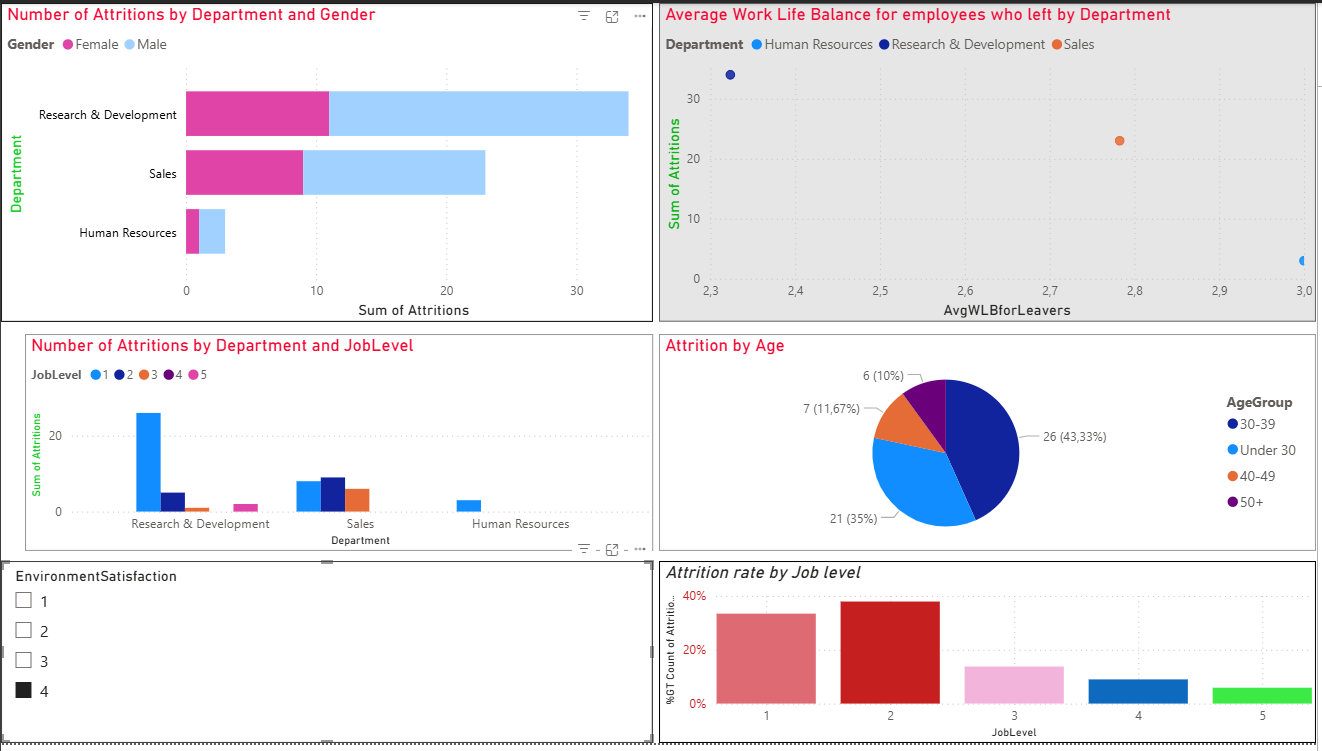

This screenshot's page, from the dashboard's own definition file:
{"tool":"powerbi","page":{"name":"Page 1","canvas":[1280,720],"ordinal":0},"visuals":[{"type":"clusteredColumnChart","title":"Number of Attritions by Department and JobLevel","fields":{"Category":["The View SQL to PowerBi.Department"],"Y":["Sum(The View SQL to PowerBi.Attritions)"],"Series":["The View SQL to PowerBi.JobLevel"]},"box":[23.3,321.9,610.8,211.1],"z":0},{"type":"barChart","title":"Number of Attritions by Department and Gender","fields":{"Series":["The View SQL to PowerBi.Gender"],"Category":["The View SQL to PowerBi.Department"],"Y":["Sum(The View SQL to PowerBi.Attritions)"]},"box":[0,0,634,309.9],"z":1000},{"type":"scatterChart","title":"Average Work Life Balance for employees who left by Department","fields":{"X":["The View SQL to PowerBi.AvgWLBforLeavers"],"Series":["The View SQL to PowerBi.Department"],"Y":["Sum(The View SQL to PowerBi.Attritions)"]},"box":[640.3,0,639.4,309.9],"z":2000},{"type":"pieChart","title":"Attrition by Age","fields":{"Y":["Sum(The View SQL to PowerBi.Attritions)"],"Category":["The View SQL to PowerBi.AgeGroup"]},"box":[640,321.9,639,211.1],"z":3000},{"type":"slicer","fields":{"Values":["The View SQL to PowerBi.EnvironmentSatisfaction"]},"box":[0,542.7,634.2,177],"z":4000},{"type":"clusteredColumnChart","title":"Attrition rate by Job level","fields":{"Category":["The View SQL to PowerBi.JobLevel"],"Y":["CountNonNull(The View SQL to PowerBi.AttritionRate)"]},"box":[640,542.7,639,177],"z":4001}]}

Visuals, with their boxes in screenshot pixels (x1, y1, x2, y2), scaled from the page's 1280x720 canvas onto the 1322x751 screenshot:
"Number of Attritions by Department and JobLevel" clusteredColumnChart: 24,336,655,556
"Number of Attritions by Department and Gender" barChart: 0,0,655,323
"Average Work Life Balance for employees who left by Department" scatterChart: 661,0,1321,323
"Attrition by Age" pieChart: 661,336,1321,556
slicer - The View SQL to PowerBi.EnvironmentSatisfaction: 0,566,655,750
"Attrition rate by Job level" clusteredColumnChart: 661,566,1321,750
